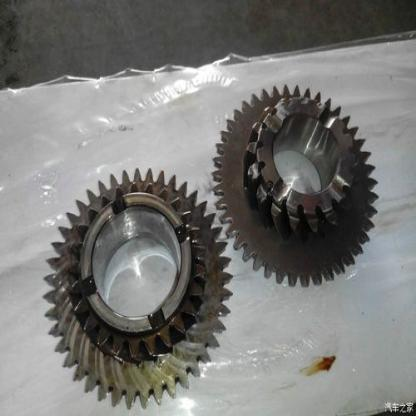FOD: (41, 163, 234, 414), (209, 81, 382, 292)
